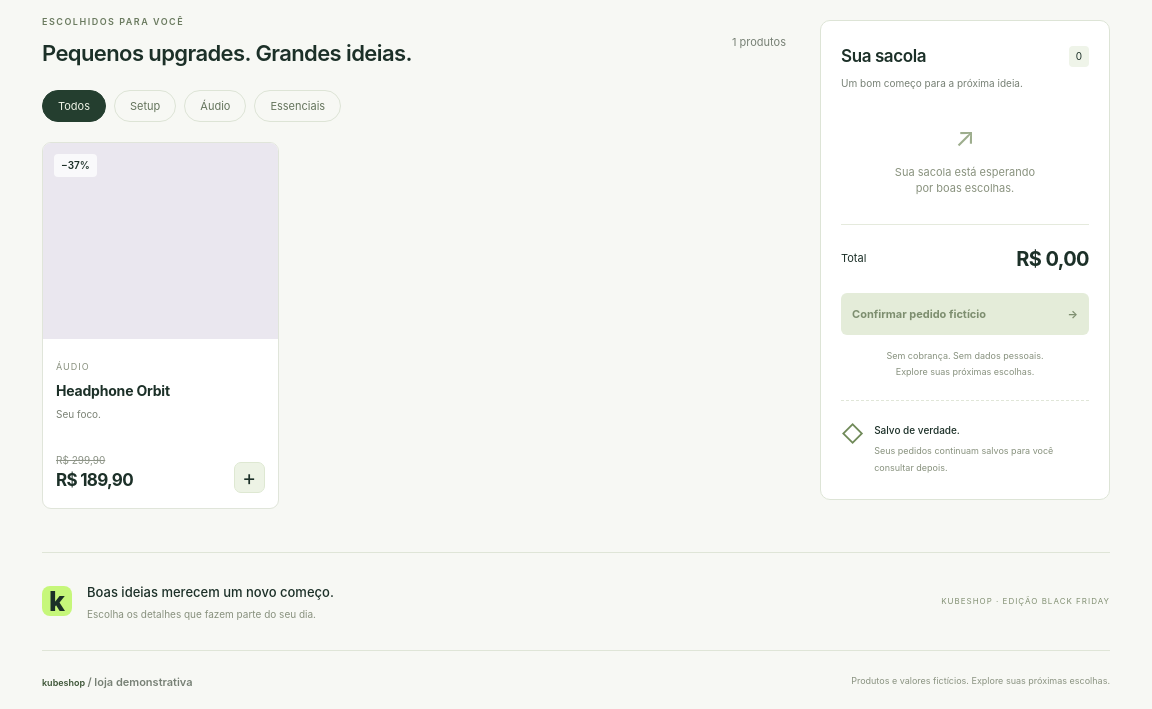
Test: KubeShop - frontend › cria um pedido, limpa a sacola e atualiza o histórico
(page scrolled)
Click the button named "Adicionar Headphone Orbit". click: (249, 478)
box: [234, 462, 265, 493]
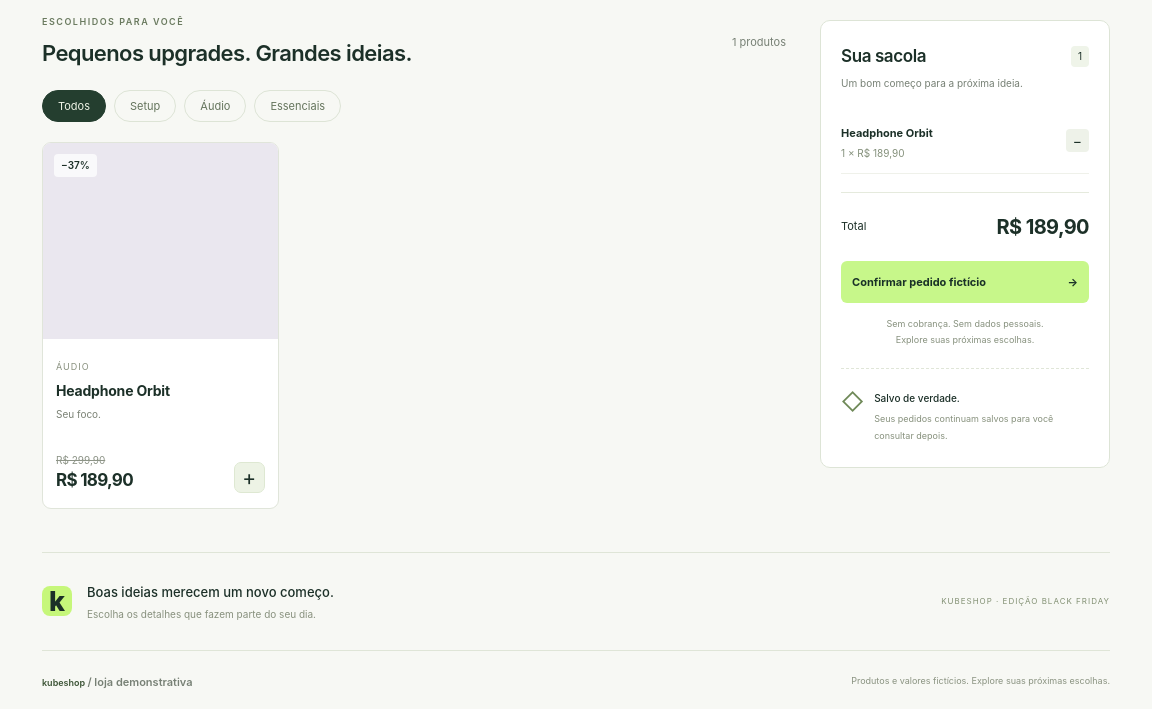
Click the button "Confirmar pedido fictício →". click: (965, 282)
box: [841, 260, 1089, 303]
(page scrolled)
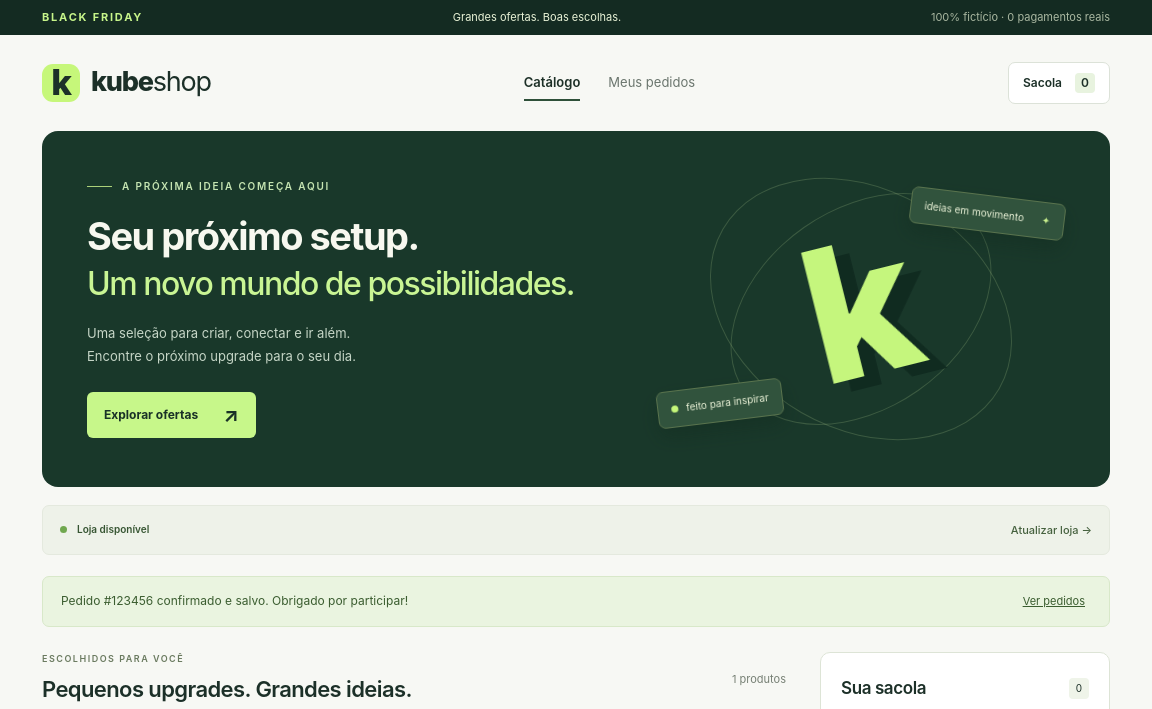
Now the text "Pedido #123456 confirmado e salvo. Obrigado por participar! Ver pedidos" is shown, box [42, 576, 1110, 626]
Note: Consulta o histórico atualizado.
Click the button "Meus pedidos". click: (652, 83)
box: [608, 60, 695, 105]
(page scrolled)
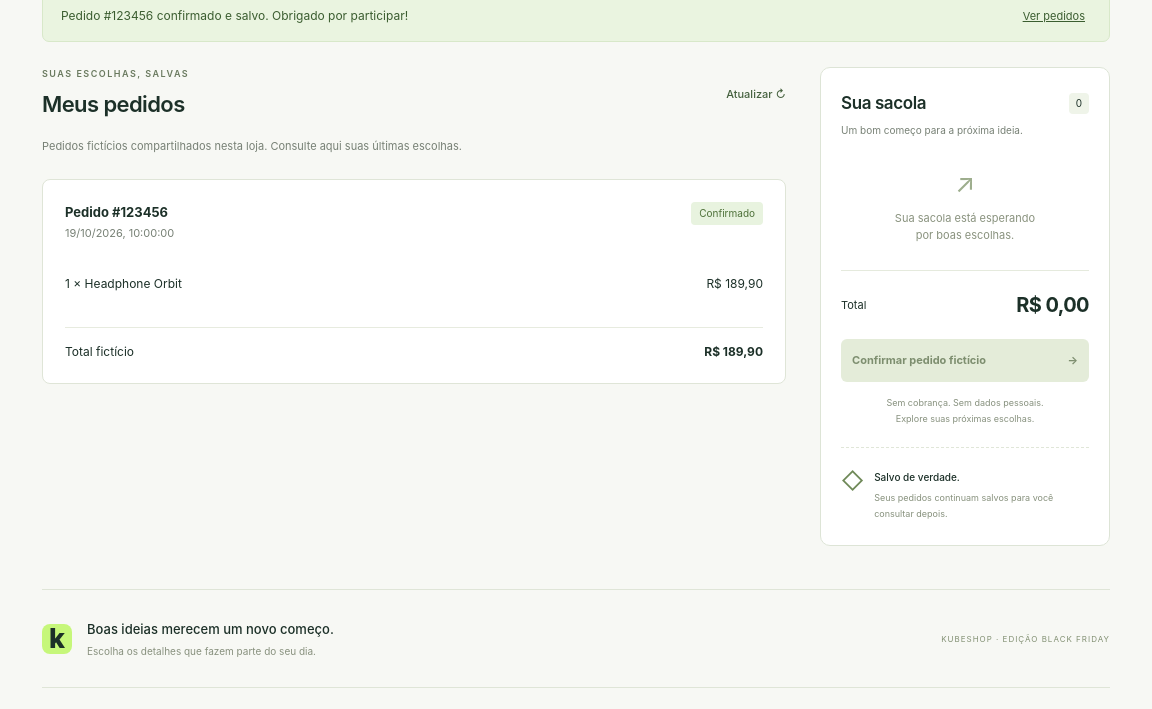
Now the button "Confirmar pedido fictício →" is disabled, box [841, 339, 1089, 382]
Now the text "Pedido #123456" is shown, box [65, 203, 168, 223]
Now the list item "1 × Headphone Orbit" is shown, box [65, 276, 763, 291]
